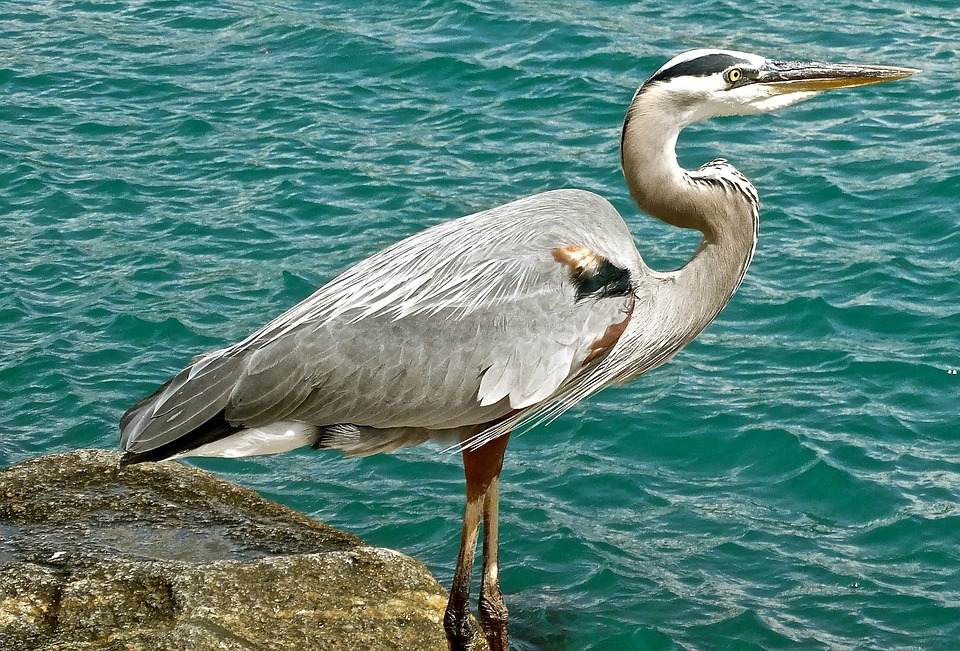heron: (108, 43, 921, 651)
